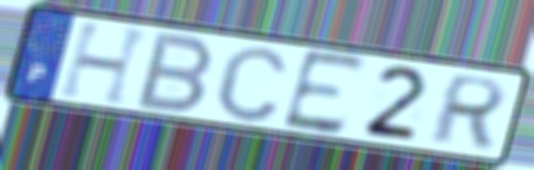2: (361, 64, 433, 146)
B: (131, 30, 218, 116)
C: (211, 42, 292, 125)
E: (278, 46, 371, 139)
H: (55, 20, 156, 109)
R: (424, 72, 512, 150)
